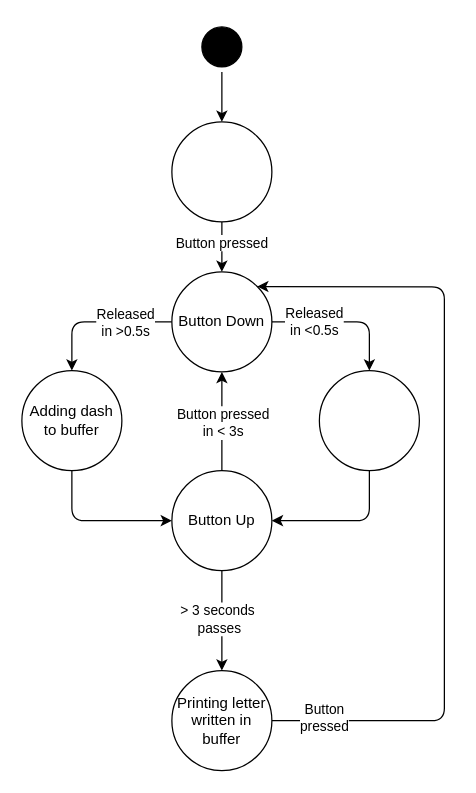
Image size: 476x793. Some labels were removed from this diagram. The shapes that lost their labels are listed below. From the top down, each one's centre as x and y in pixels, then its label:
point (221, 171): Idle
point (368, 420): Adding dot to buffer
